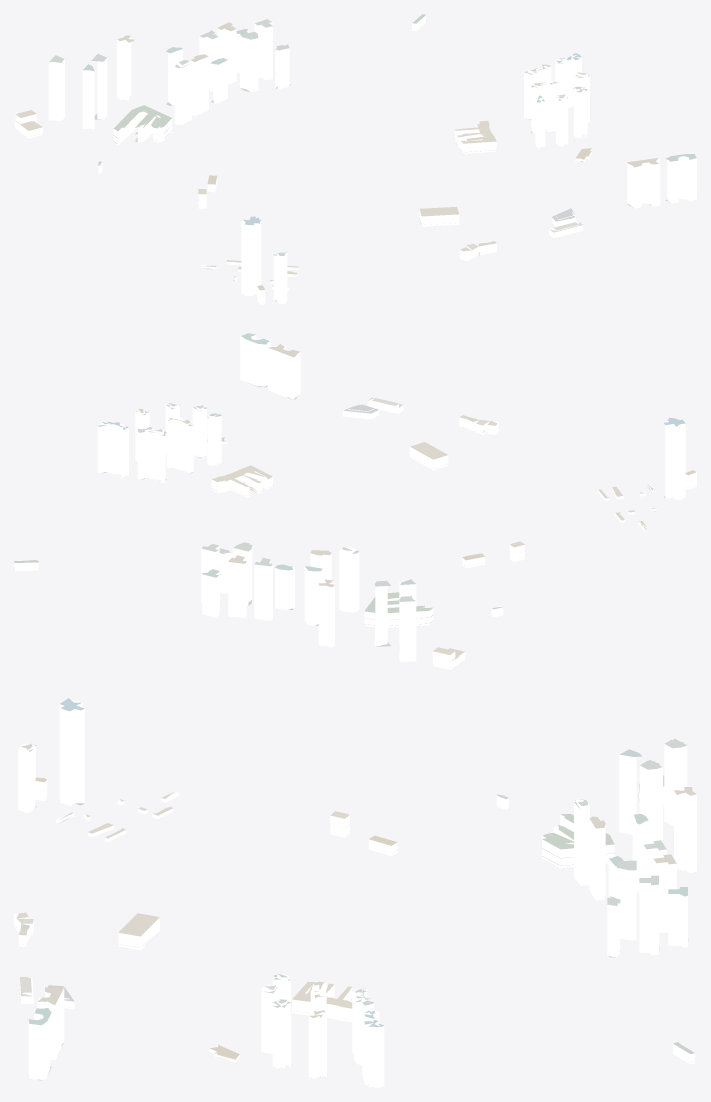
Rendered from buildings--4_1-coarse.glb.
3 views of the same model, one above another, from view 1: azimuth 30°, elevation 25°; view 2: azimuth 150°, elevation 25°; view 3: azimuth 270°, elevation 25° (orthographic). The views are drawn at different scales.
Visible parts, largest first — view 1: block_-4_1_office, block_-4_1_roof, block_-4_1_residential; view 2: block_-4_1_office, block_-4_1_residential, block_-4_1_roof; view 3: block_-4_1_office, block_-4_1_roof, block_-4_1_residential.
Boxes of the visible parts, box(x1,y1,x2,y2) form: block_-4_1_office: box(48, 20, 696, 303); block_-4_1_roof: box(16, 14, 696, 301); block_-4_1_residential: box(14, 15, 591, 304); block_-4_1_office: box(97, 335, 685, 662); block_-4_1_residential: box(14, 398, 696, 669); block_-4_1_roof: box(14, 333, 696, 667); block_-4_1_office: box(18, 700, 696, 1087); block_-4_1_roof: box(16, 698, 696, 1087); block_-4_1_residential: box(14, 779, 694, 1064).
Bounding box in the file's own units: 665 × 105 × 651.
